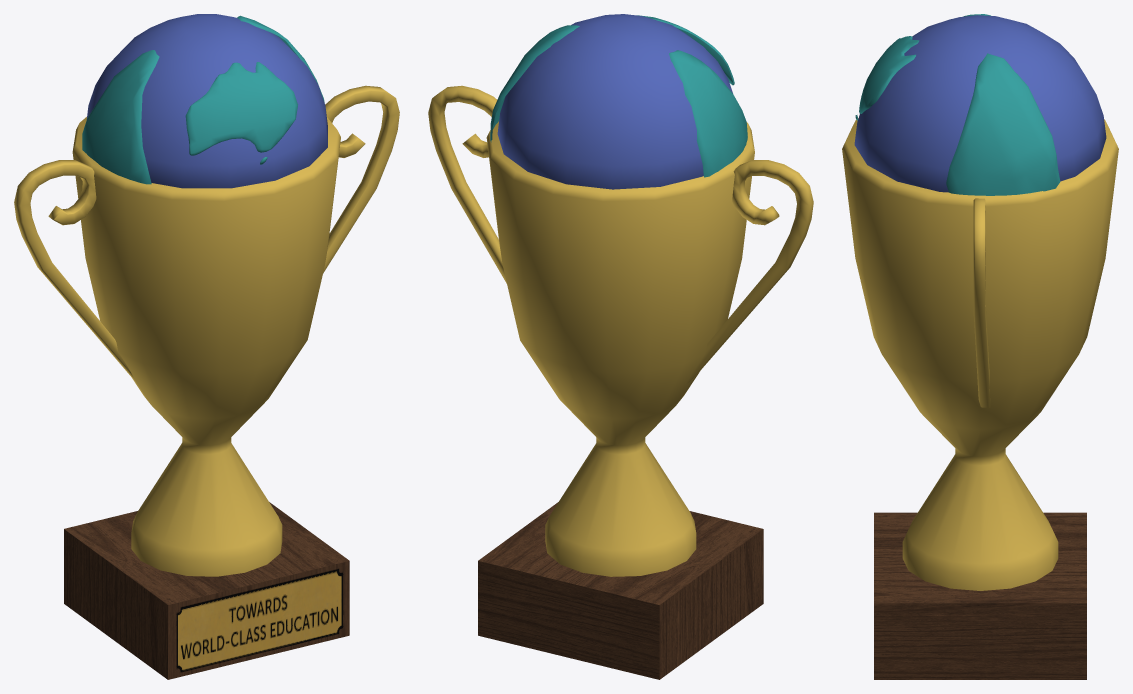
Rendered from TrophyIconCompressed.gltf.
3 renders of one model, left to right at view 1: azimuth 30°, elevation 25°; view 2: azimuth 150°, elevation 25°; view 3: azimuth 270°, elevation 25°, orthographic. The views are drawn at different scales.
Parts seen in each view (by area): view 1: Trophy, Earth; view 2: Trophy, Earth; view 3: Trophy, Earth.
Boxes of the visible parts, bbox=[...] form: Trophy: bbox=[14, 85, 399, 679]; Earth: bbox=[82, 14, 327, 188]; Trophy: bbox=[428, 85, 813, 679]; Earth: bbox=[490, 14, 747, 189]; Trophy: bbox=[842, 118, 1118, 679]; Earth: bbox=[854, 14, 1106, 195].
Size of the model in its own units: 16.61 by 24.67 by 10.22.
Materials: 5 (2 with a texture image).
